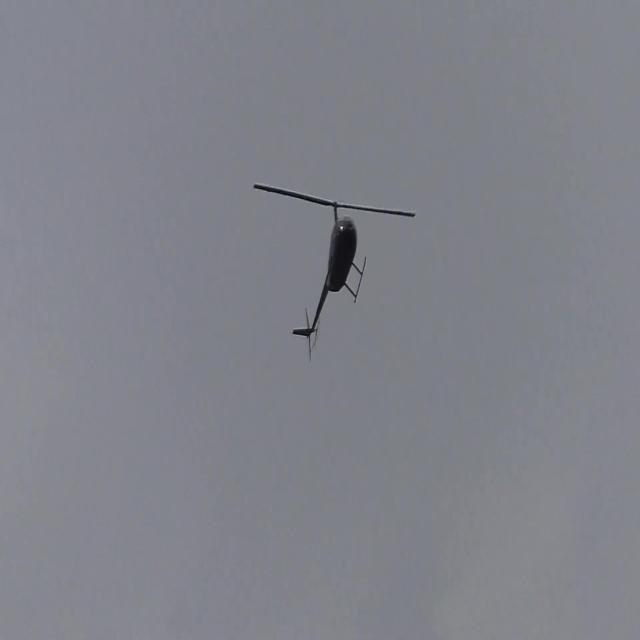CIV_HELO: (292, 197, 367, 341)
